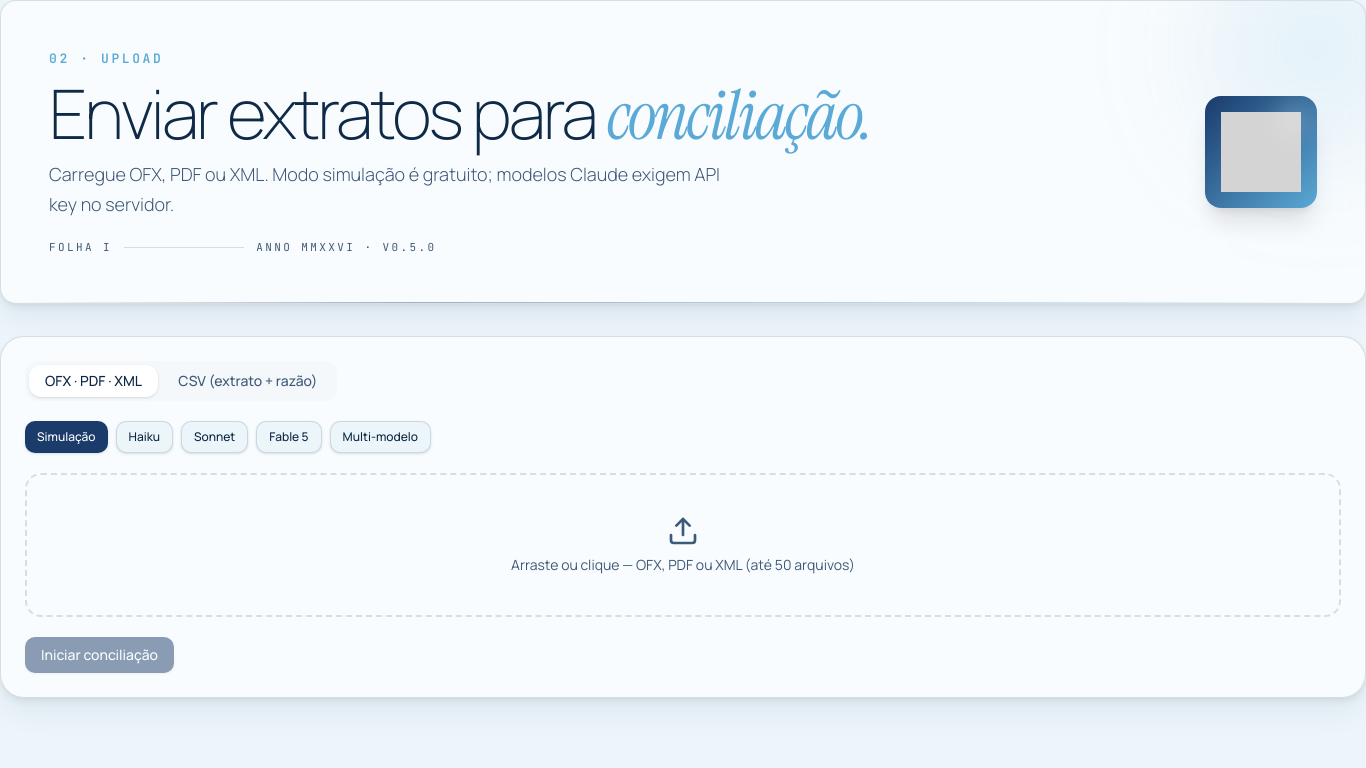
UploadPage › mostra aviso de creditos ao selecionar o modo Fable
Expected: the text "custa ~3× mais que o Sonnet" is not shown
Click the button "Fable 5".
click(289, 437)  # box [256,421,322,453]
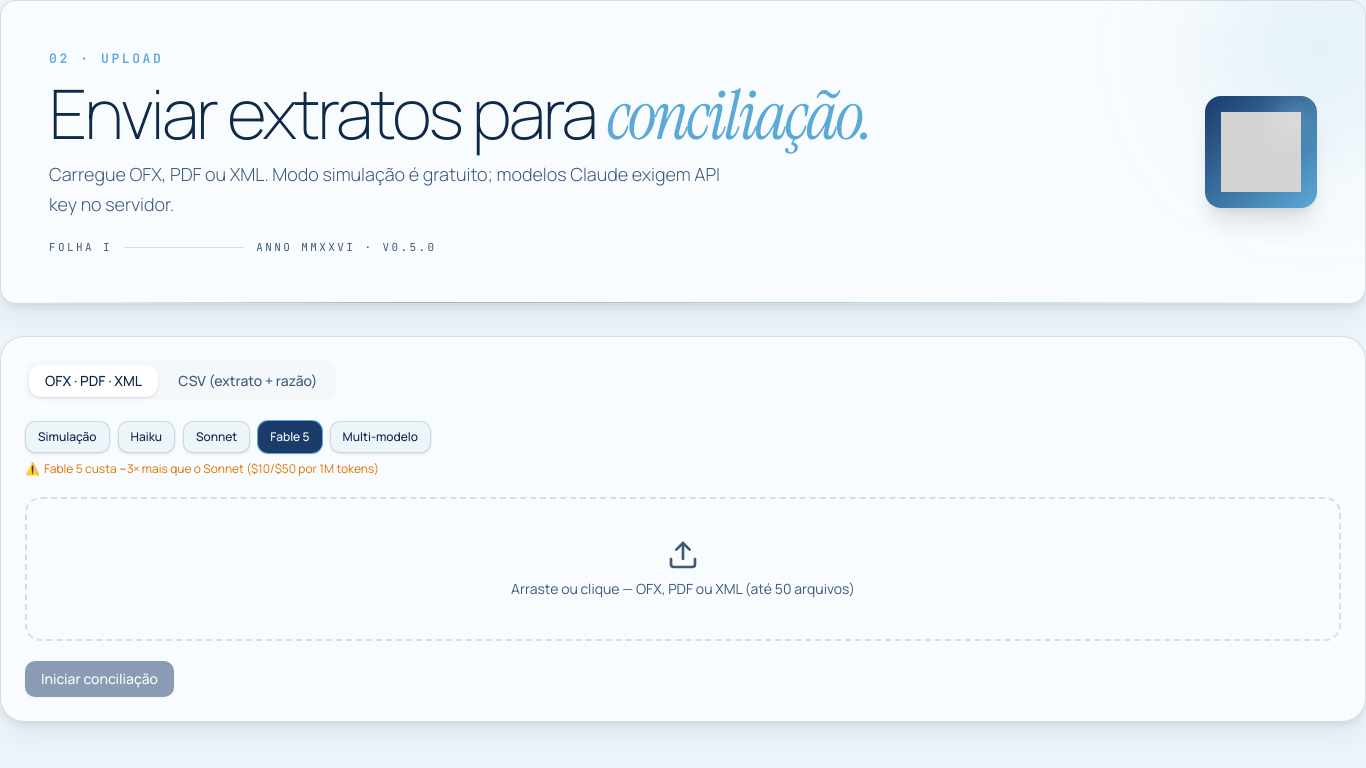
Result: the text "Fable 5 custa ~3× mais que o Sonnet ($10/$50 por 1M tokens)" is shown at [44,461,379,477]
